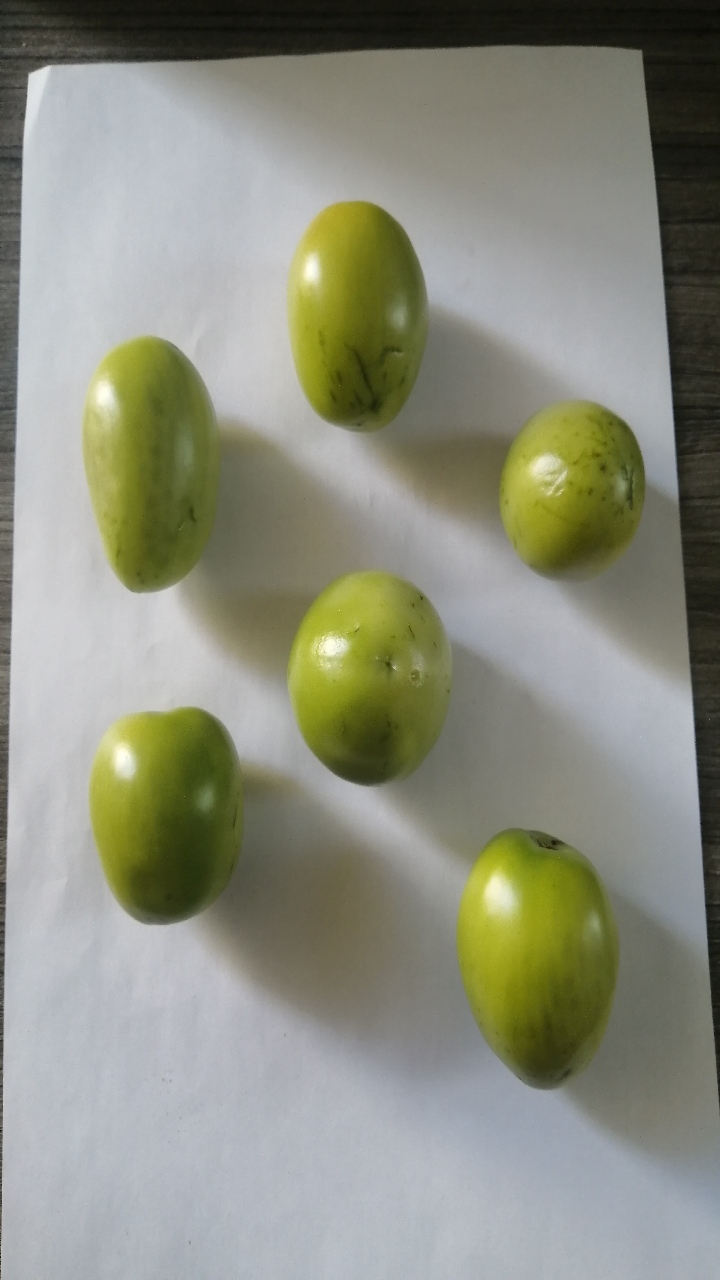tomateVerde: (440, 811, 634, 1112), (260, 182, 463, 466), (264, 546, 484, 808), (61, 311, 244, 612), (68, 680, 264, 931), (478, 369, 671, 595)
